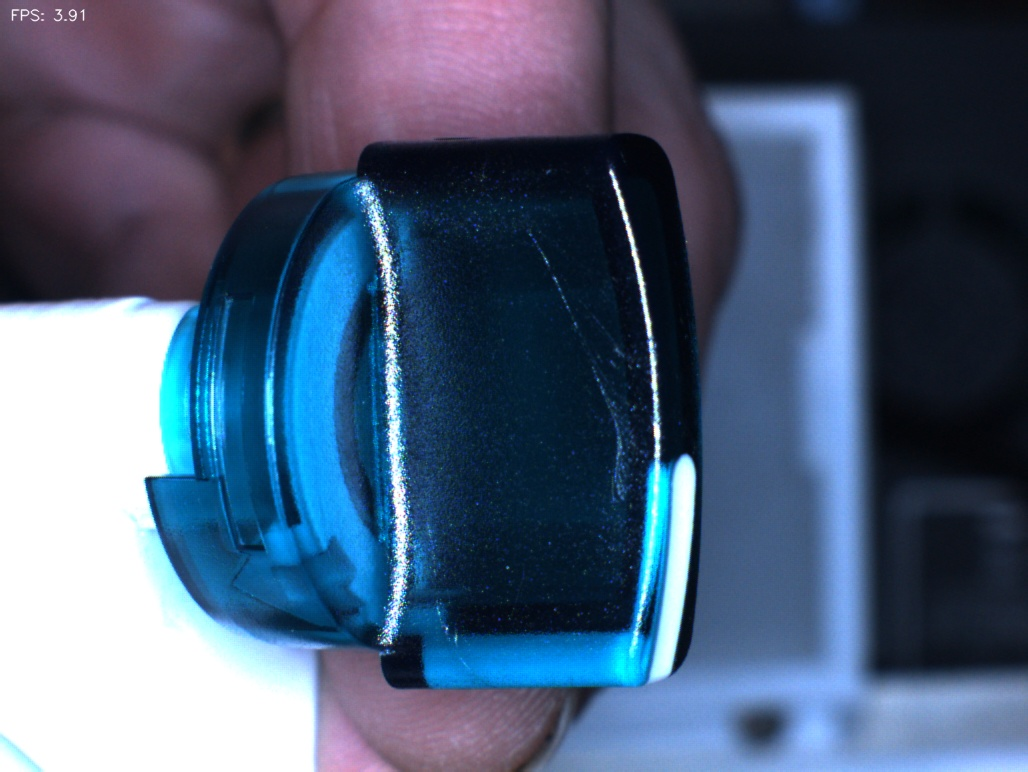Givrage: (550, 286, 667, 505)
